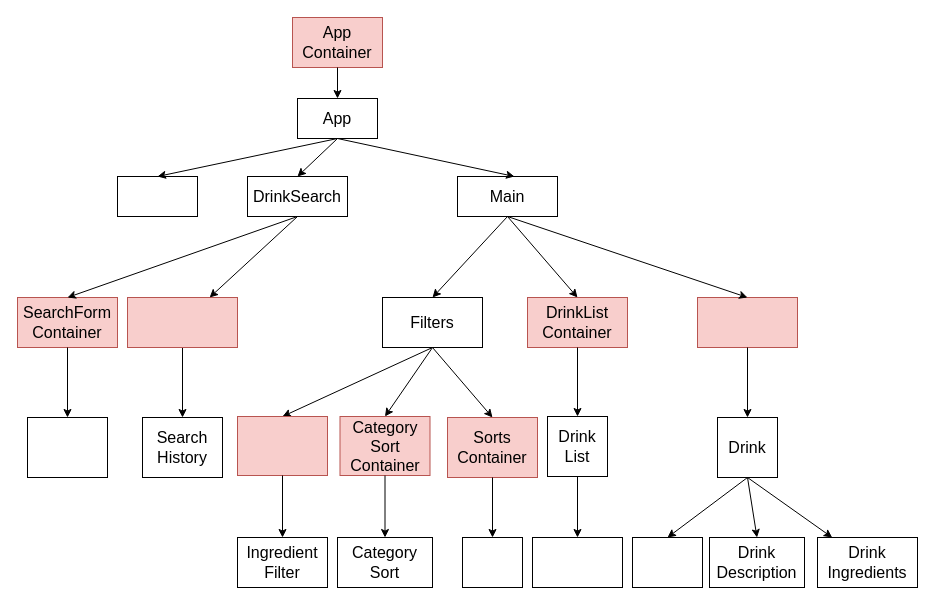
The diagram is 935 pixels wide and 605 high, and some of its shapes have lost their labels. The shapes that lost their labels are listed below. From the top down, each one's centre as x and y in pixels, then its label:
At point (157, 196): "Header".
At point (182, 322): "SearchHistory Container".
At point (747, 322): "Drink Container".
At point (67, 447): "Search Form".
At point (282, 446): "Ingredient Filter Container".
At point (492, 562): "Sorts".
At point (577, 562): "List Element".
At point (667, 562): "Drink Image".
